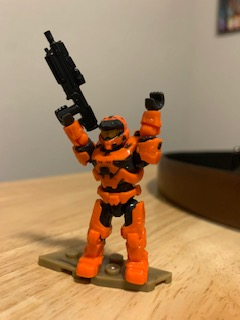rifle: (39, 29, 100, 132)
spartan: (53, 91, 169, 286)
up: (51, 89, 166, 188)
